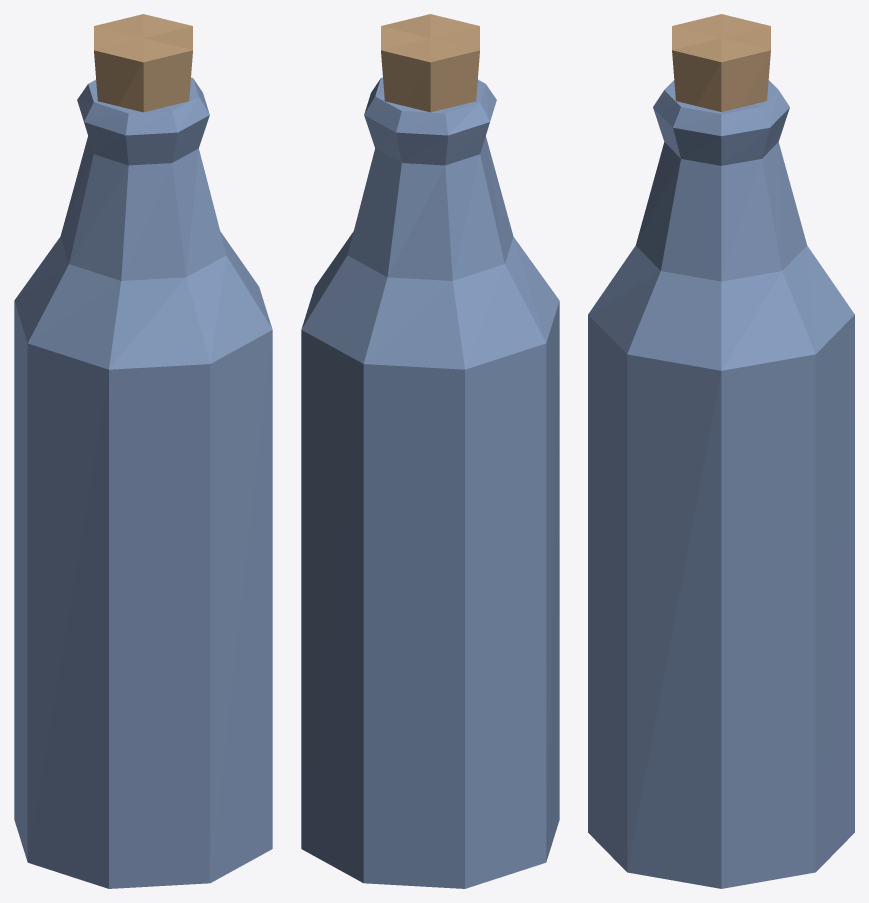
Rendered from bottle_blue.glb.
The picture shows the model from 3 angles, left to right: view 1: azimuth 30°, elevation 25°; view 2: azimuth 150°, elevation 25°; view 3: azimuth 270°, elevation 25°; orthographic projection.
Visible parts, largest first — view 1: bottle_blue; view 2: bottle_blue; view 3: bottle_blue.
Part boxes in pixels (left/top/right/bottom): bottle_blue: left=14, top=14, right=272, bottom=888; bottle_blue: left=301, top=14, right=559, bottom=888; bottle_blue: left=588, top=14, right=854, bottom=888.
Bounding box in the file's own units: 0.14 × 0.46 × 0.14.
